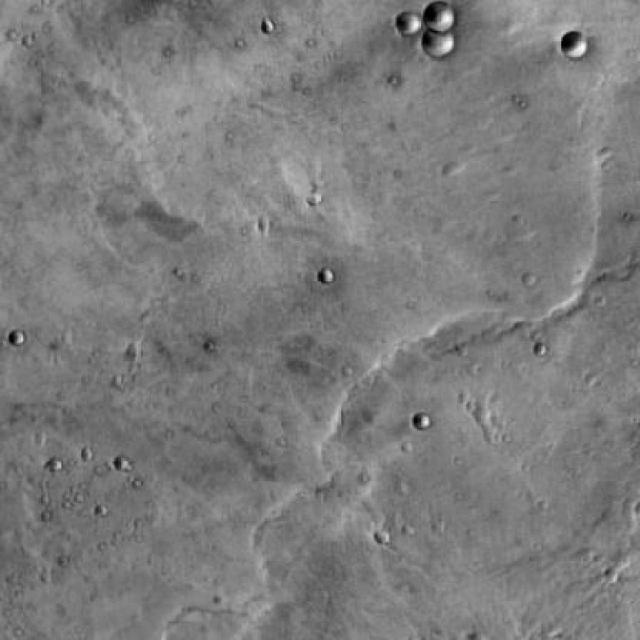crater: (432, 22, 465, 52), (436, 0, 470, 26), (405, 3, 433, 31), (573, 24, 602, 51), (416, 418, 432, 436)
